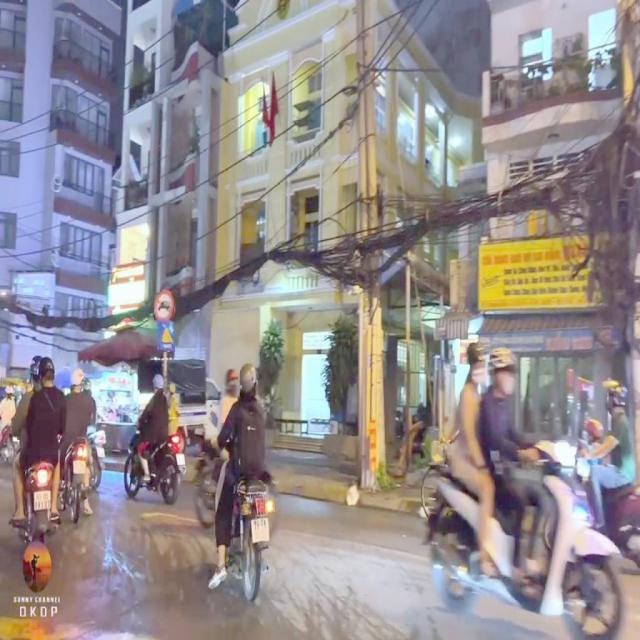106-cam-oto-tai: (152, 288, 176, 322)
442-cho: (156, 322, 175, 352)
